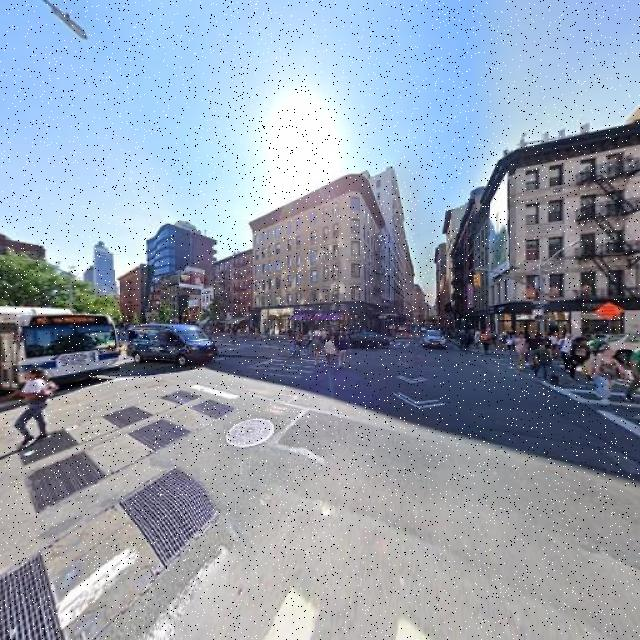Building: (493, 140, 640, 349), (254, 165, 385, 337)
